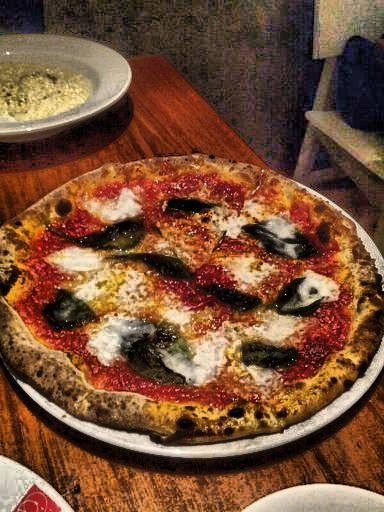pizza: (1, 156, 384, 512)
